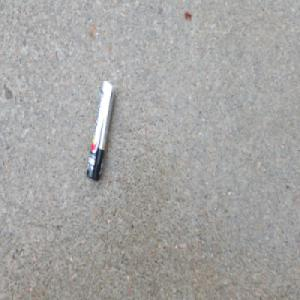Battery: (85, 78, 116, 182)
